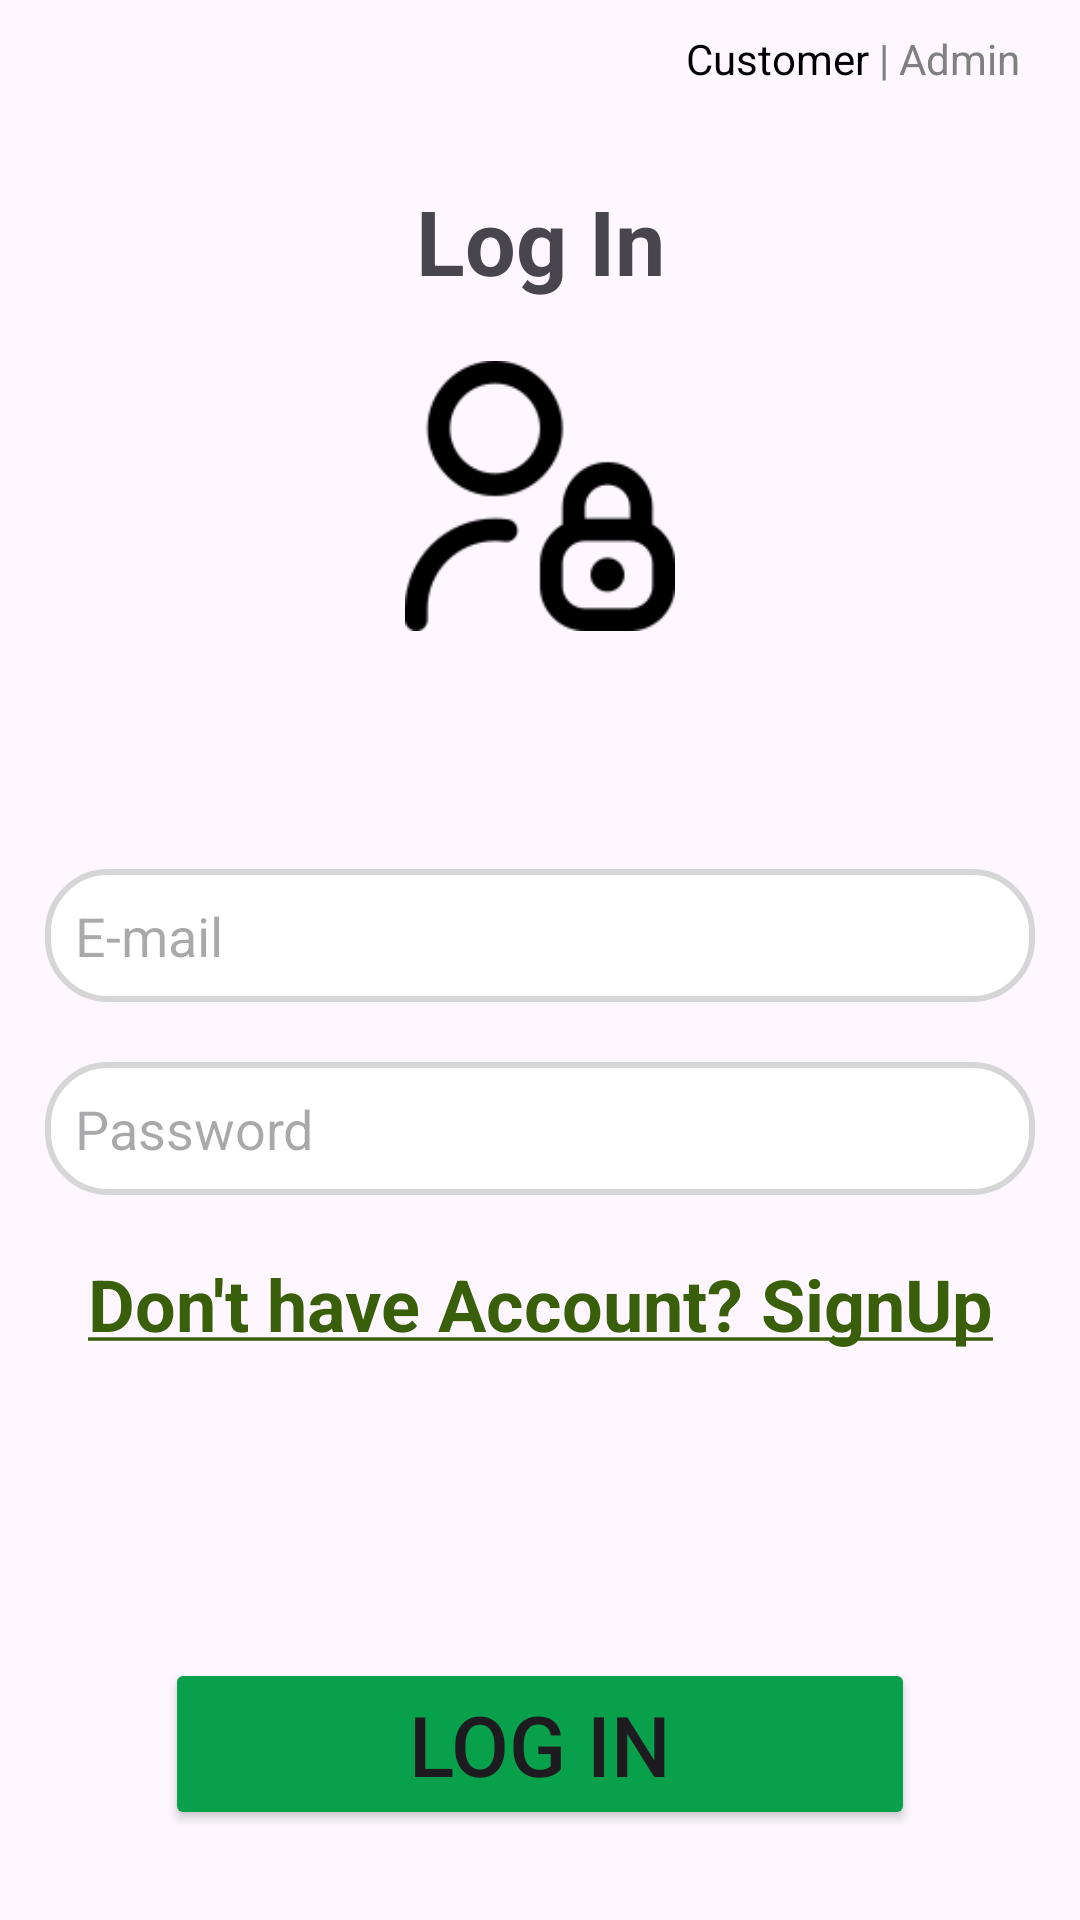

Icon bounding boxes for this 1080x1920 phone screenshot, format bbox=(x1, y1, x2, y2):
userlock: bbox=(405, 361, 675, 631)
